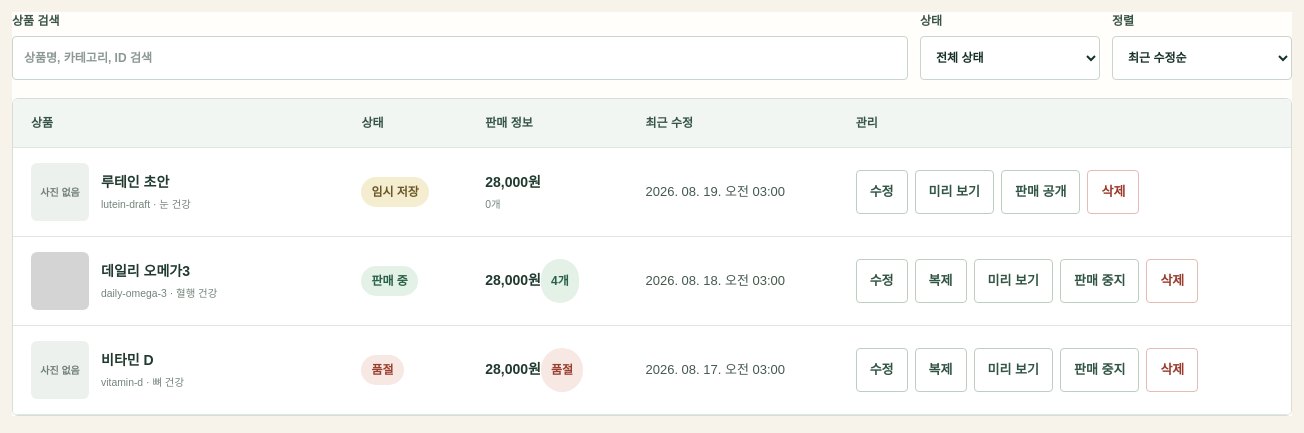
Test: searches names, IDs, and categories and filters published, draft, and sold-out rows
Type "lutein-draft" into the search field labelled "상품 검색". click: (460, 58)
box: [12,36,908,80]
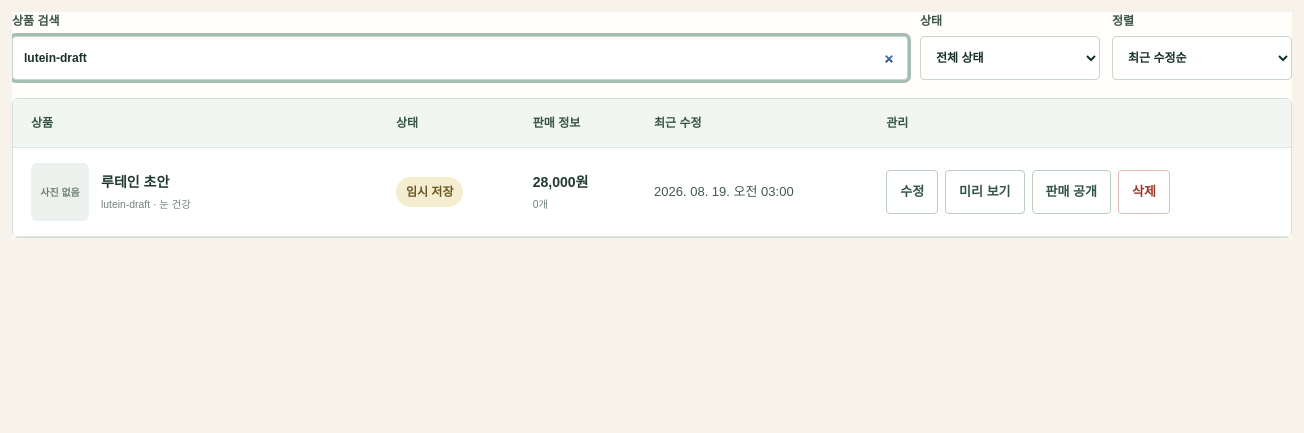
Expected: the text "루테인 초안" is shown, [101,174,169,190]
Now the text "데일리 오메가3" is gone
Replace the text in the search field labelled "상품 검색" with "혈행 건강". click: (460, 58)
box: [12,36,908,80]
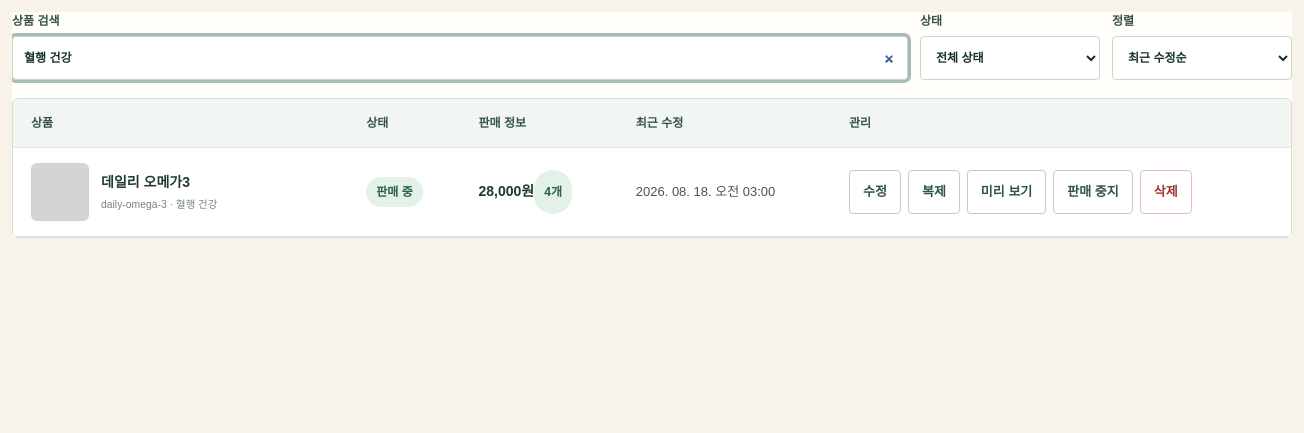
Now the text "데일리 오메가3" is shown, box [101,174,190,190]
Clear the search field labelled "상품 검색". click: (460, 58)
box: [12,36,908,80]
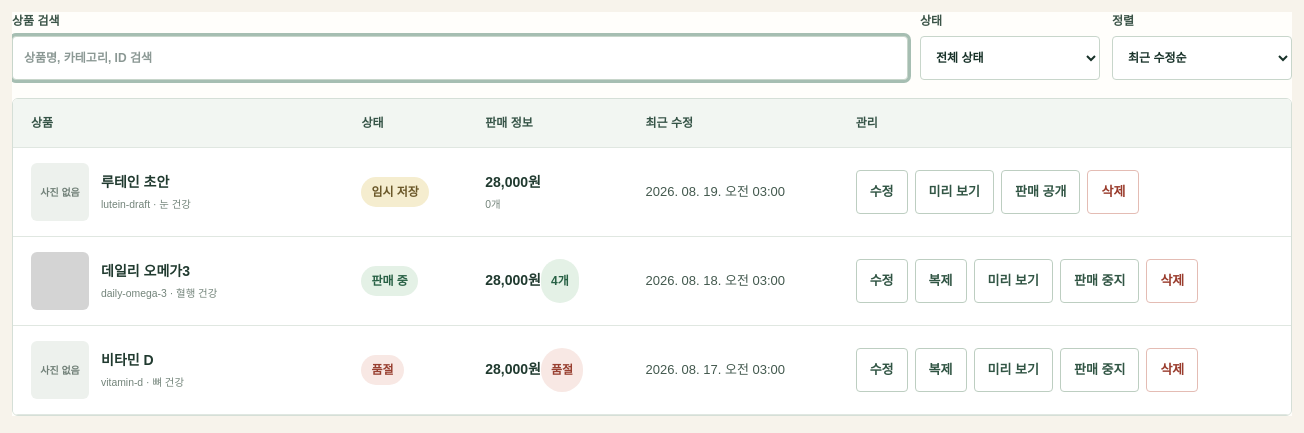
Select "공개 상품" in the dropdown named "상태 필터". click: (1010, 58)
box: [920,36,1100,80]
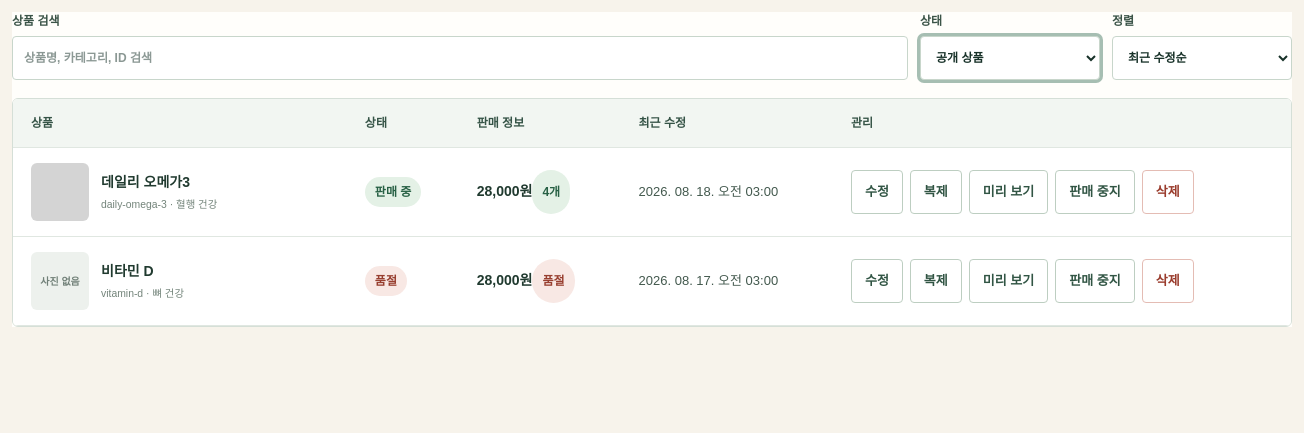
Now the text "데일리 오메가3" is shown, box [101,174,190,190]
Now the text "비타민 D" is shown, box [101,263,154,279]
Now the text "루테인 초안" is gone
Select "품절" in the dropdown named "상태 필터". click: (1010, 58)
box: [920,36,1100,80]
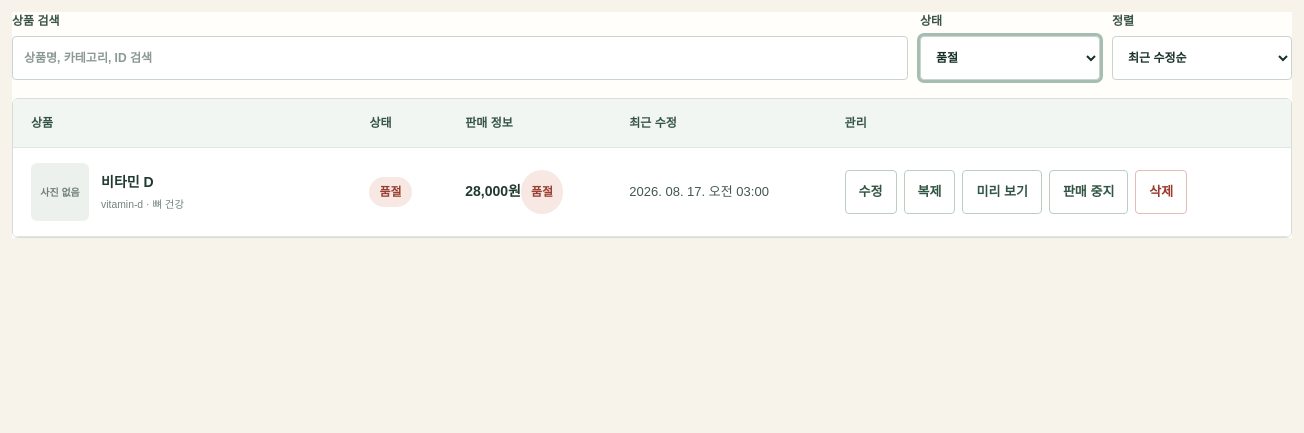
Expected: the text "루테인 초안" is not shown
Now the text "비타민 D" is shown, box [101,174,154,190]
Select "초안" in the dropdown named "상태 필터". click: (1010, 58)
box: [920,36,1100,80]
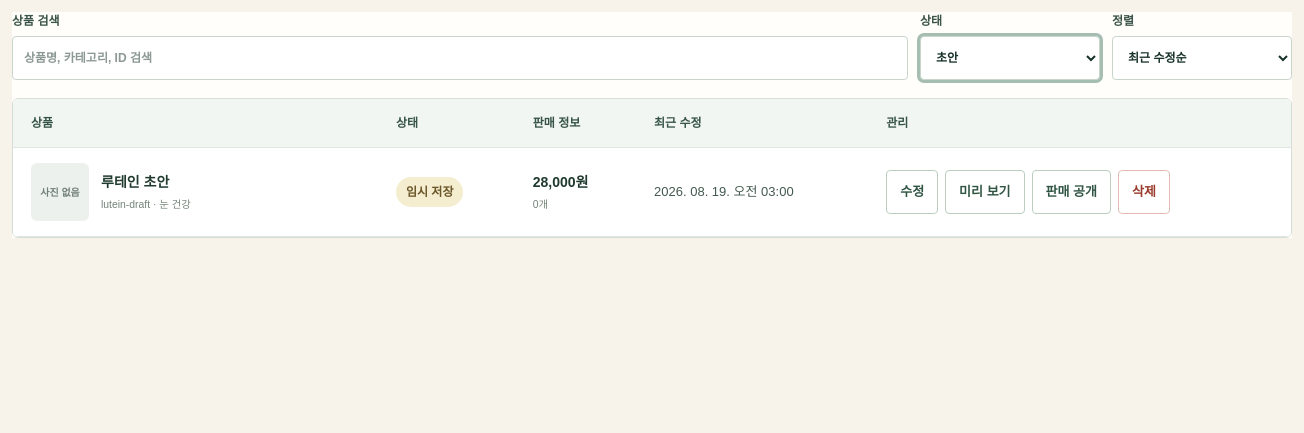
Now the text "루테인 초안" is shown, box [101,174,169,190]
Now the text "비타민 D" is gone
